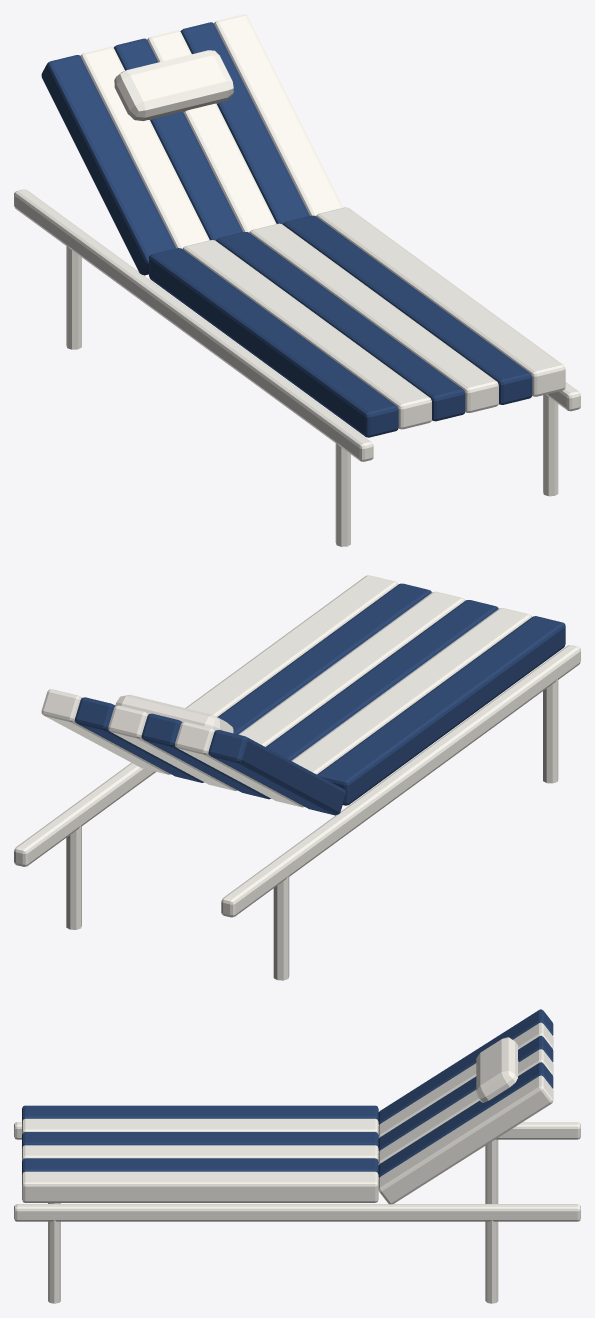
The model's file is b_lounger_navy.gltf.
The picture shows the model from 3 angles, top to bottom: view 1: azimuth 30°, elevation 25°; view 2: azimuth 150°, elevation 25°; view 3: azimuth 270°, elevation 25°; orthographic projection. The views are drawn at different scales.
Parts seen in each view (by area): view 1: b_lounger_navy; view 2: b_lounger_navy; view 3: b_lounger_navy.
Part boxes in pixels (<box>): b_lounger_navy: <box>14,14,580,546</box>; b_lounger_navy: <box>14,575,580,980</box>; b_lounger_navy: <box>14,1009,580,1303</box>.
Bounding box in the file's own units: 0.64 × 0.7224 × 1.75.
Materials: 1 (1 with a texture image).
